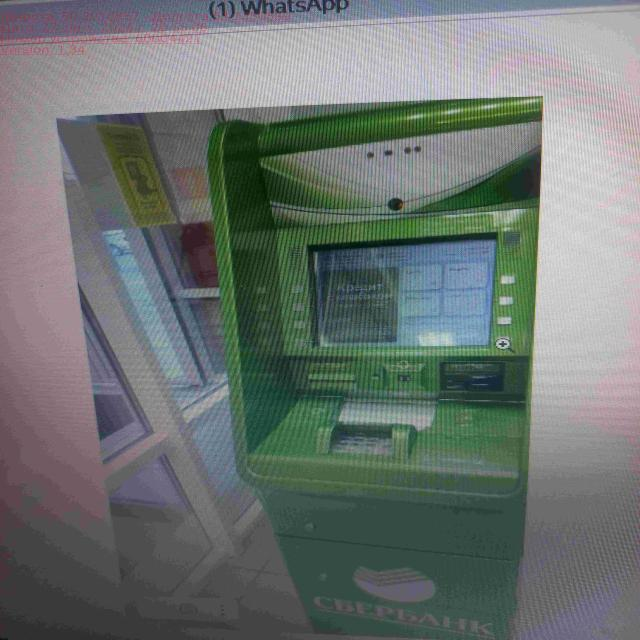bank: (205, 97, 540, 640)
